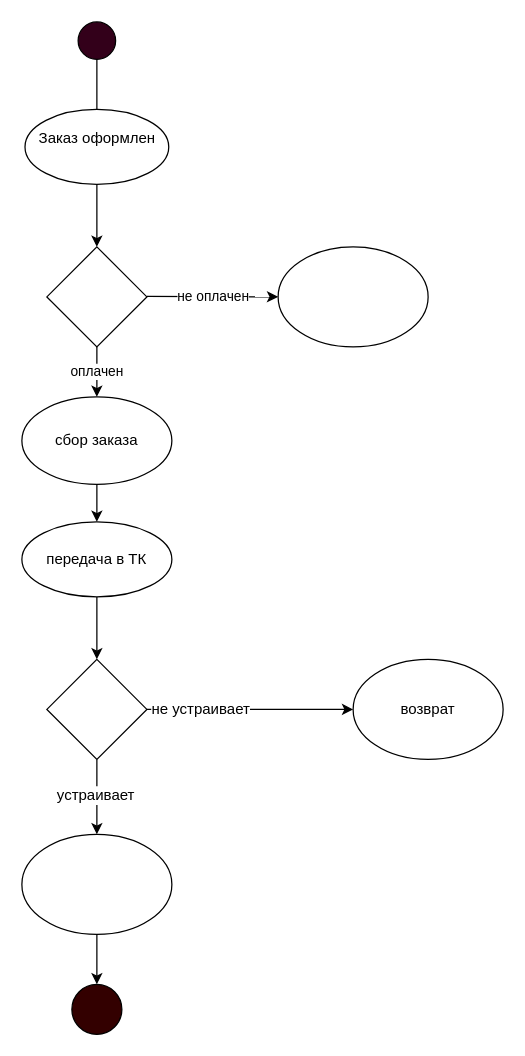
Image size: 525x1056. Some labels were removed from this diagram. Here are the shapes that lost their labels. From the top down, the centre of each, then its label:
At point (352, 296): "напомнить про заказ".
At point (96, 883): "передача покупателю".
